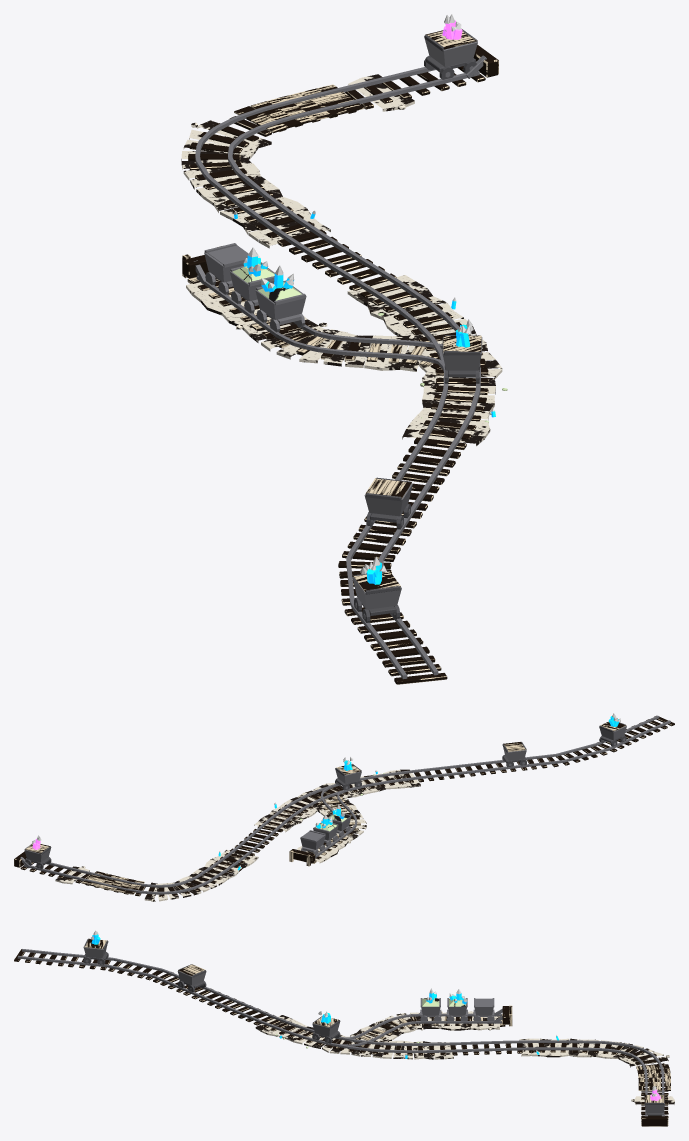
The model's file is LOBBY_10_RAILS_87a2cf.fbx.
3 views of the same model, one above another, from view 1: azimuth 30°, elevation 25°; view 2: azimuth 150°, elevation 25°; view 3: azimuth 270°, elevation 25° (orthographic). The views are drawn at different scales.
Parts seen in each view (by area): view 1: RAIL_Bed__Stone_Grout, RAIL_Main_Line__Wood_Dark, RAIL_Main_Line__Metal_Iron, RAIL_Bed__Metal_Iron, RAIL_Main_Line__Wood_Dark_B, RAIL_Mine_Carts__Metal_Iron, RAIL_Bed__Wood_Dark_C, RAIL_Mine_Carts__Metal_Dark, RAIL_Bed__Wood_Plank, RAIL_Mine_Carts__Wood_Plank_C; view 2: RAIL_Main_Line__Metal_Iron, RAIL_Bed__Stone_Grout, RAIL_Main_Line__Wood_Dark, RAIL_Bed__Metal_Iron, RAIL_Main_Line__Wood_Dark_B, RAIL_Mine_Carts__Metal_Iron, RAIL_Bed__Wood_Dark_C, RAIL_Mine_Carts__Metal_Dark, RAIL_Bed__Wood_Plank, RAIL_Mine_Carts__Wood_Plank_C; view 3: RAIL_Bed__Stone_Grout, RAIL_Main_Line__Metal_Iron, RAIL_Main_Line__Wood_Dark, RAIL_Bed__Metal_Iron, RAIL_Main_Line__Wood_Dark_B, RAIL_Bed__Wood_Dark_C, RAIL_Mine_Carts__Metal_Iron, RAIL_Mine_Carts__Metal_Dark, RAIL_Bed__Wood_Plank, RAIL_Mine_Carts__Wood_Plank_C.
Part boxes in pixels (x1,y1,x2,y2): RAIL_Bed__Stone_Grout: (181, 74, 502, 446); RAIL_Main_Line__Wood_Dark: (188, 45, 498, 684); RAIL_Main_Line__Metal_Iron: (195, 55, 486, 679); RAIL_Bed__Metal_Iron: (194, 243, 442, 369); RAIL_Main_Line__Wood_Dark_B: (189, 81, 482, 676); RAIL_Mine_Carts__Metal_Iron: (352, 36, 482, 619); RAIL_Bed__Wood_Dark_C: (182, 246, 487, 374); RAIL_Mine_Carts__Metal_Dark: (354, 29, 480, 622); RAIL_Bed__Wood_Plank: (234, 84, 364, 133); RAIL_Mine_Carts__Wood_Plank_C: (353, 30, 481, 591); RAIL_Main_Line__Metal_Iron: (20, 715, 670, 894); RAIL_Bed__Stone_Grout: (55, 769, 420, 901); RAIL_Main_Line__Wood_Dark: (14, 715, 674, 896); RAIL_Bed__Metal_Iron: (295, 786, 357, 858); RAIL_Main_Line__Wood_Dark_B: (57, 719, 667, 896); RAIL_Mine_Carts__Metal_Iron: (24, 726, 626, 867); RAIL_Bed__Wood_Dark_C: (289, 787, 360, 866); RAIL_Mine_Carts__Metal_Dark: (24, 722, 626, 868); RAIL_Bed__Wood_Plank: (81, 871, 144, 894); RAIL_Mine_Carts__Wood_Plank_C: (25, 721, 626, 853); RAIL_Bed__Stone_Grout: (255, 1011, 674, 1104); RAIL_Main_Line__Metal_Iron: (17, 949, 664, 1116); RAIL_Main_Line__Wood_Dark: (14, 949, 668, 1126); RAIL_Bed__Metal_Iron: (339, 998, 504, 1046); RAIL_Main_Line__Wood_Dark_B: (25, 952, 668, 1105); RAIL_Bed__Wood_Dark_C: (332, 1005, 512, 1049); RAIL_Mine_Carts__Metal_Iron: (84, 944, 664, 1112); RAIL_Mine_Carts__Metal_Dark: (83, 939, 664, 1115); RAIL_Bed__Wood_Plank: (636, 1064, 670, 1090); RAIL_Mine_Carts__Wood_Plank_C: (84, 938, 664, 1102).
Bounding box in the file's own units: 64.64 × 5.72 × 102.
9 materials, 3 textured.
